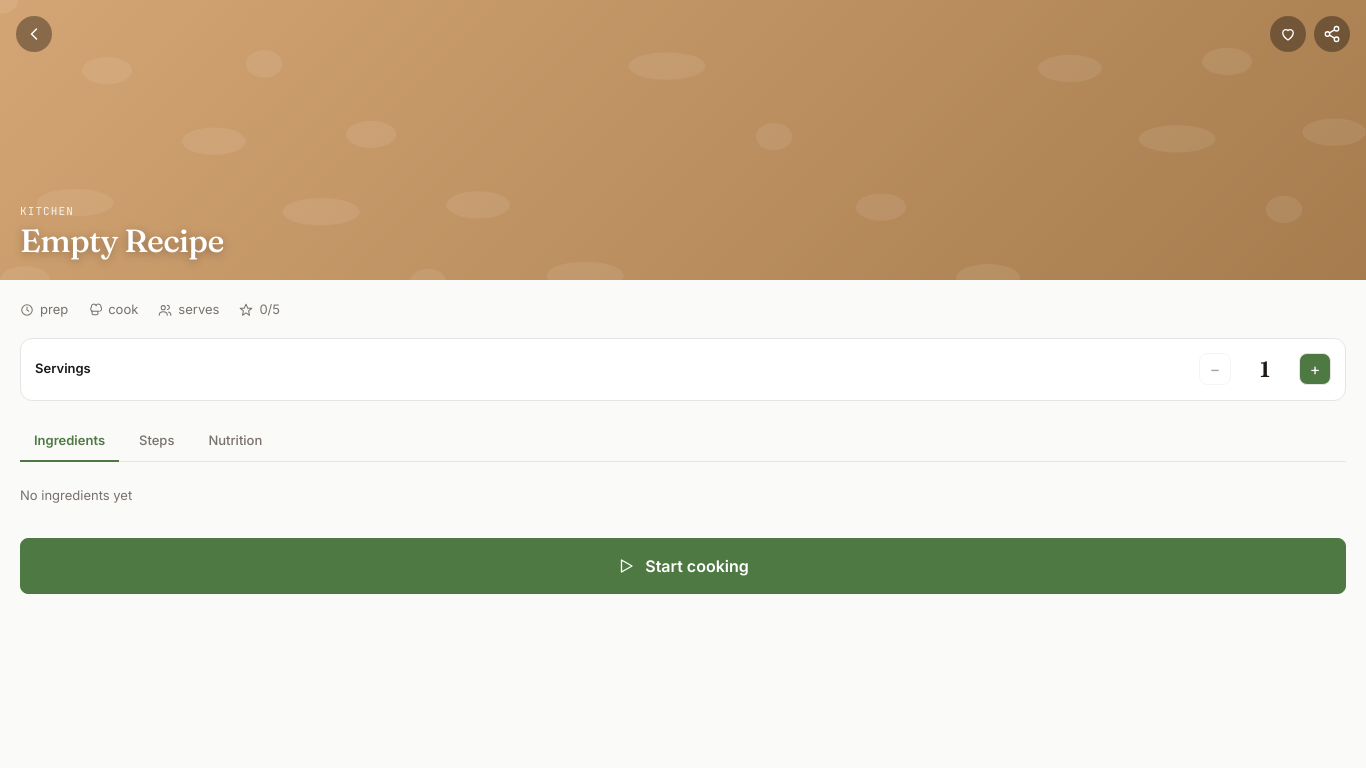
Test: /recipes/[id] page — ingredients + steps render › renders empty-state copy gracefully when the recipe has no ingredients or steps
Expected: the text "No ingredients yet" is shown, x1=20 y1=487 x2=132 y2=503
// Switch to Steps tab — empty-state copy must render too.
Click the text "Steps" at [157, 440], box x1=139 y1=432 x2=174 y2=448
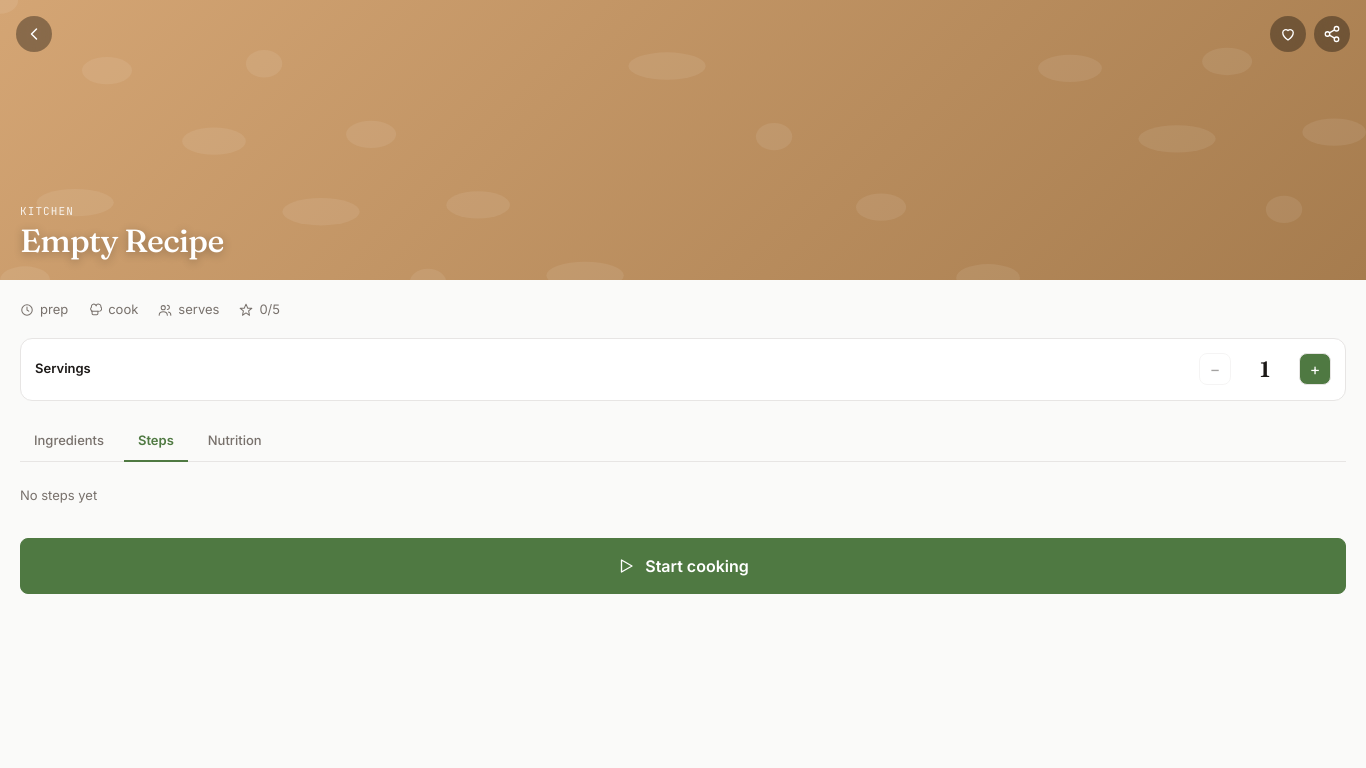
Now the text "No steps yet" is shown, box x1=20 y1=487 x2=97 y2=503
